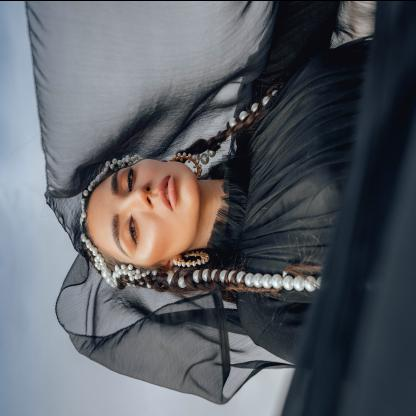Eye: (123, 213, 139, 248), (122, 166, 136, 192)
Mouth: (156, 174, 176, 212)
Nose: (125, 181, 153, 211)
